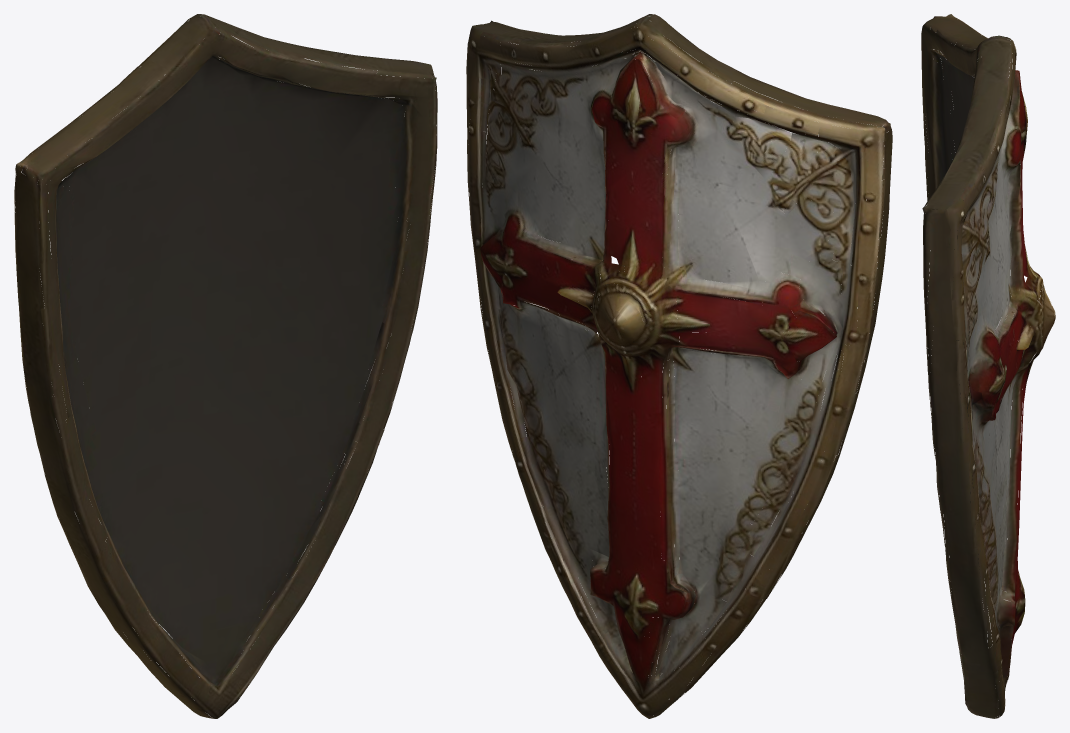
The model's file is kite_silver_cross.glb.
3 views of the same model, side by side, from view 1: azimuth 30°, elevation 25°; view 2: azimuth 150°, elevation 25°; view 3: azimuth 270°, elevation 25° (orthographic). The views are drawn at different scales.
Visible parts, largest first — view 1: kite_silver_cross; view 2: kite_silver_cross; view 3: kite_silver_cross.
Part boxes in pixels (x1=…): kite_silver_cross: x1=14, y1=14, x2=437, y2=718; kite_silver_cross: x1=466, y1=14, x2=892, y2=718; kite_silver_cross: x1=921, y1=14, x2=1055, y2=718.
Size of the model in its own units: 0.4528 by 0.7293 by 0.1304.
1 material, 1 textured.
